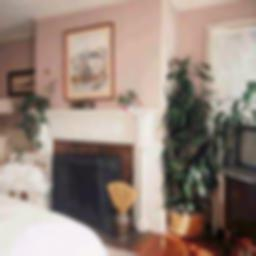Matera: (160, 72, 218, 238)
